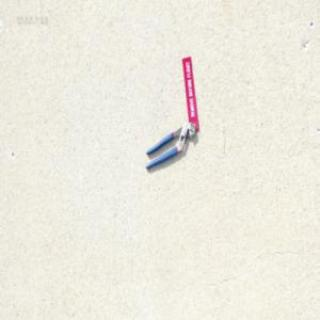LuggageTagtrack_idkeyframe: (181, 53, 199, 129)
Pliertrack_idkeyframe: (144, 120, 195, 169)
